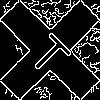T: (25, 25, 79, 79)
